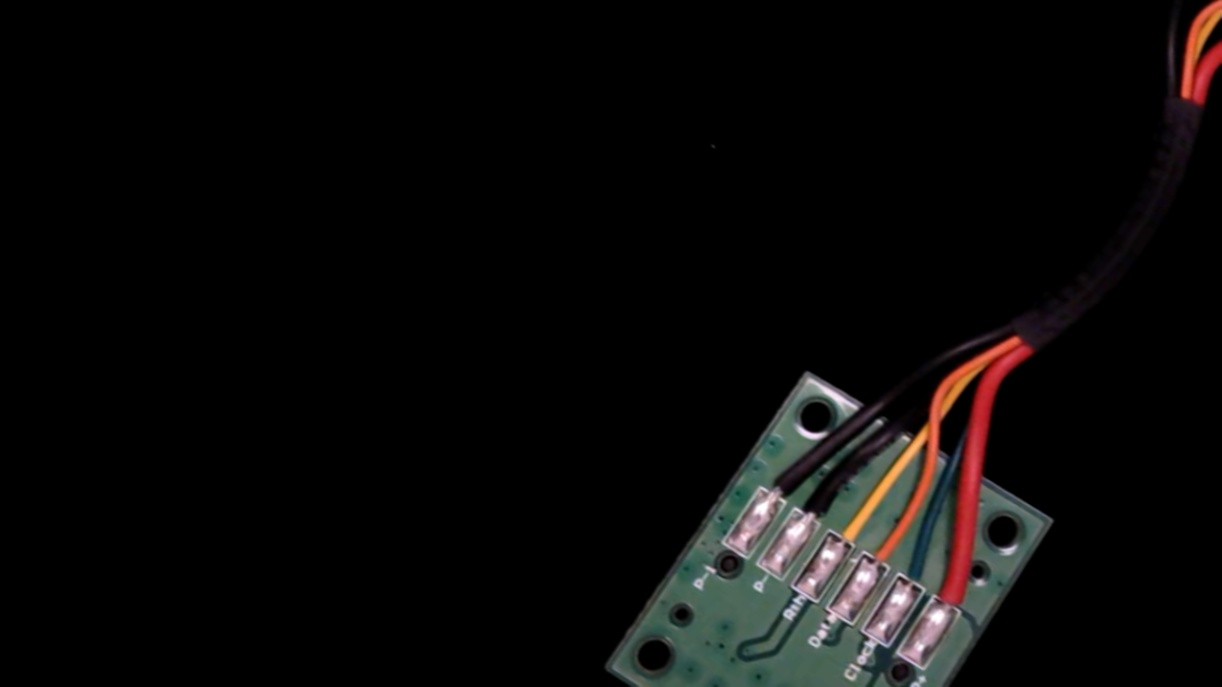Black: (786, 470, 848, 537)
Black1: (751, 448, 816, 516)
Green: (887, 538, 947, 602)
Orange: (856, 515, 916, 582)
Red: (925, 553, 991, 625)
Yellow: (821, 492, 884, 561)
